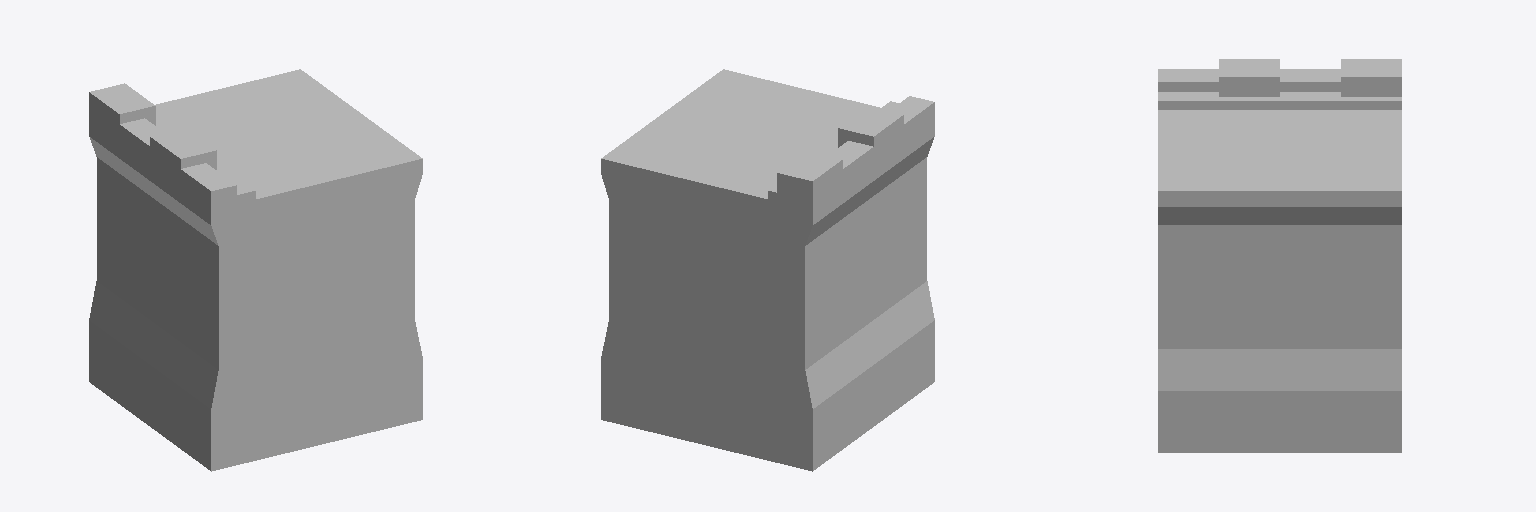
The model's file is wallHalf.obj.
The picture shows the model from 3 angles: view 1: azimuth 30°, elevation 25°; view 2: azimuth 150°, elevation 25°; view 3: azimuth 270°, elevation 25°; orthographic projection.
Visible parts, largest first — view 1: wallHalf; view 2: wallHalf; view 3: wallHalf.
Boxes of the visible parts, <box> form: wallHalf: <box>89,69,422,471</box>; wallHalf: <box>601,69,934,471</box>; wallHalf: <box>1158,59,1401,452</box>.
Bounding box in the file's own units: 10 × 13.1 × 10.